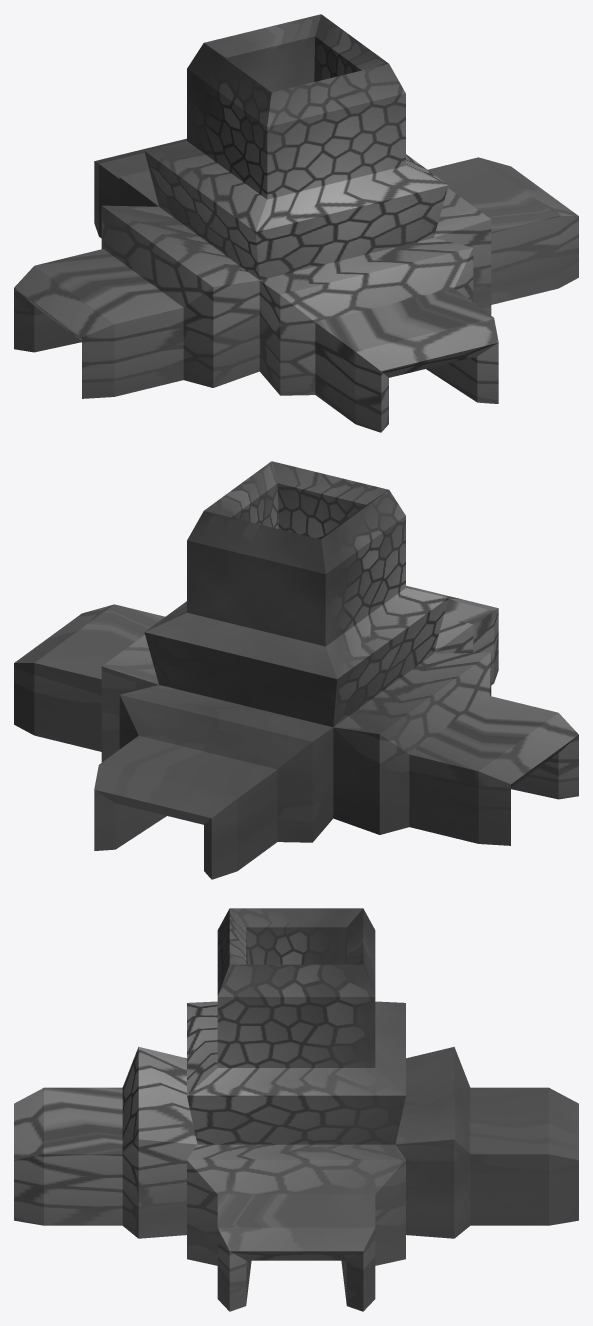
Rendered from Monolith.FBX.
3 renders of one model, top to bottom at view 1: azimuth 30°, elevation 25°; view 2: azimuth 150°, elevation 25°; view 3: azimuth 270°, elevation 25°, orthographic.
Parts seen in each view (by area): view 1: Box002; view 2: Box002; view 3: Box002.
Part boxes in pixels (left/top/right/bottom): Box002: left=14, top=14, right=578, bottom=432; Box002: left=14, top=461, right=578, bottom=879; Box002: left=14, top=908, right=578, bottom=1311.
Bounding box in the file's own units: 143 × 71.33 × 143.
